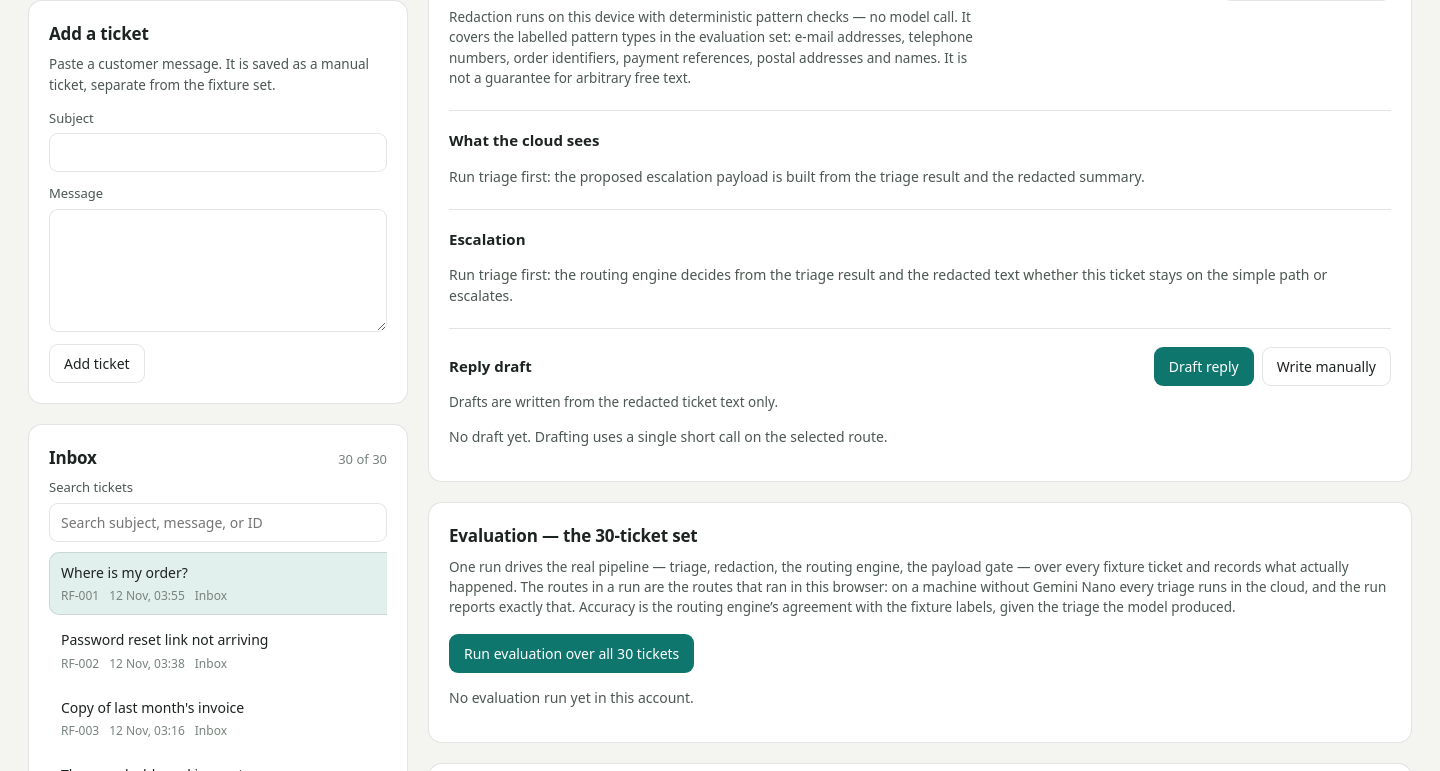
Test: App session-state integrity (T-2.8 W-2) › (c) Write manually cannot start while an AI draft is in flight for the same ticket
(page scrolled)
Click the button "Draft reply" at (1204, 366), box [1154,347,1254,386]
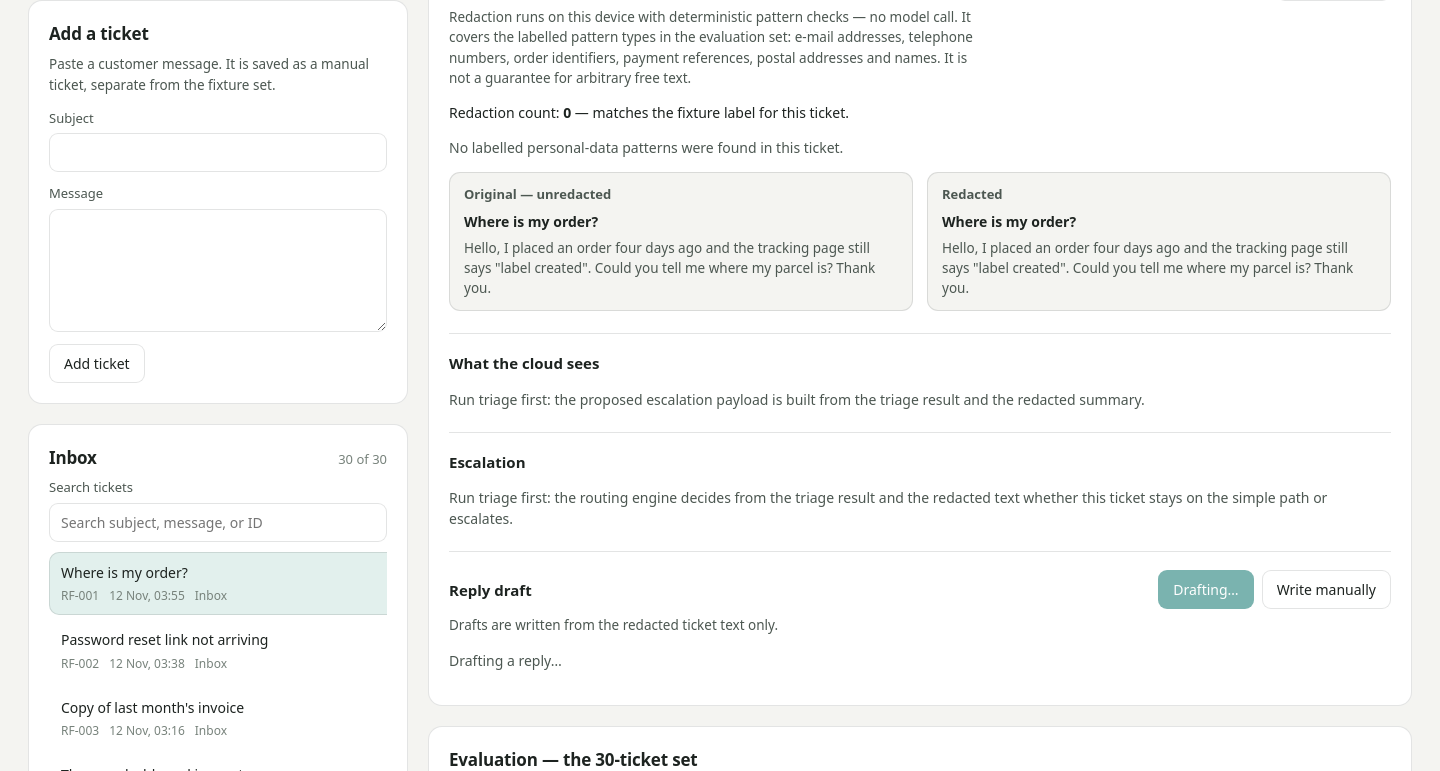
Now the text "Drafting…" is shown, box [1158,570,1254,609]
Click the button "Write manually" at (1326, 590), box [1262,570,1391,609]
(page scrolled)
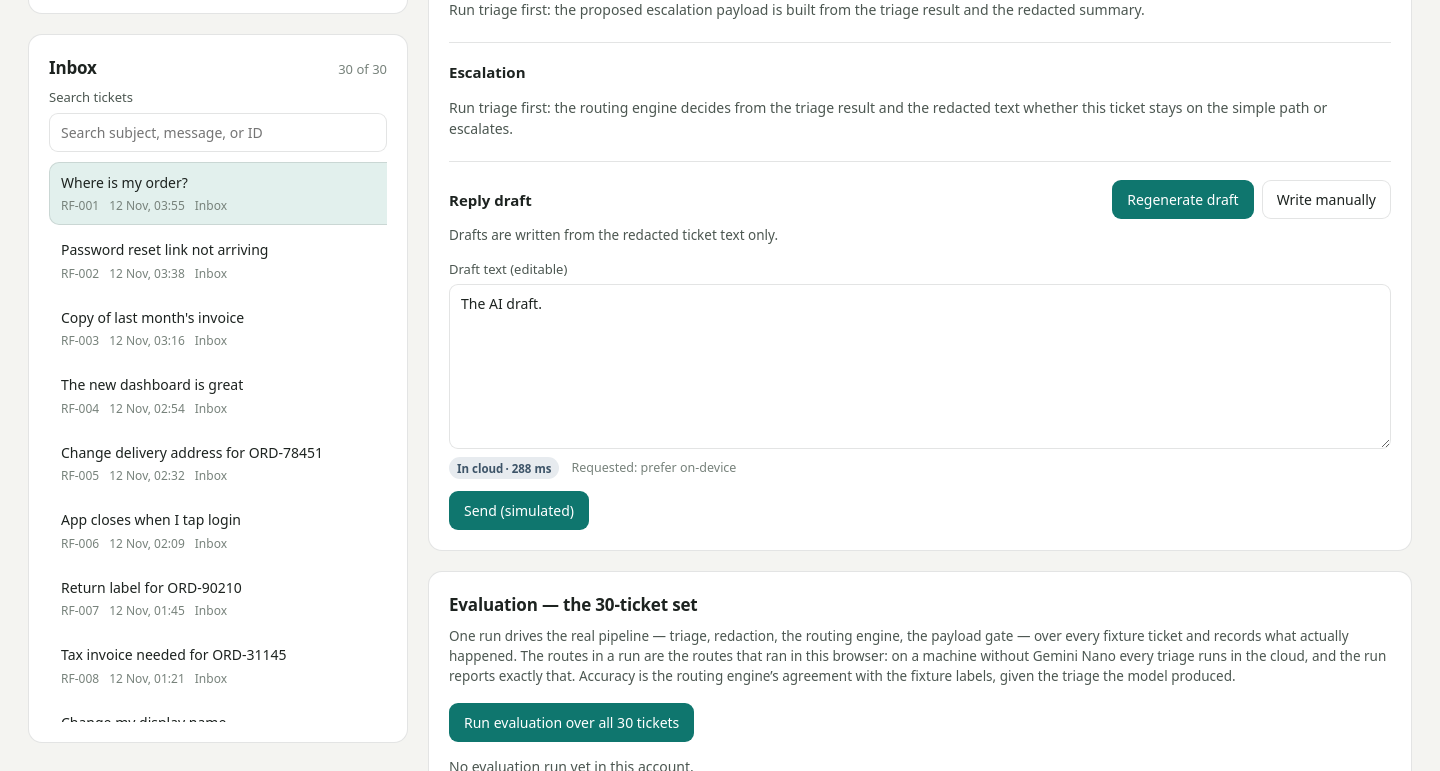
Now the text box labelled "Draft text (editable)" holds "The AI draft.", box [449,284,1391,449]
